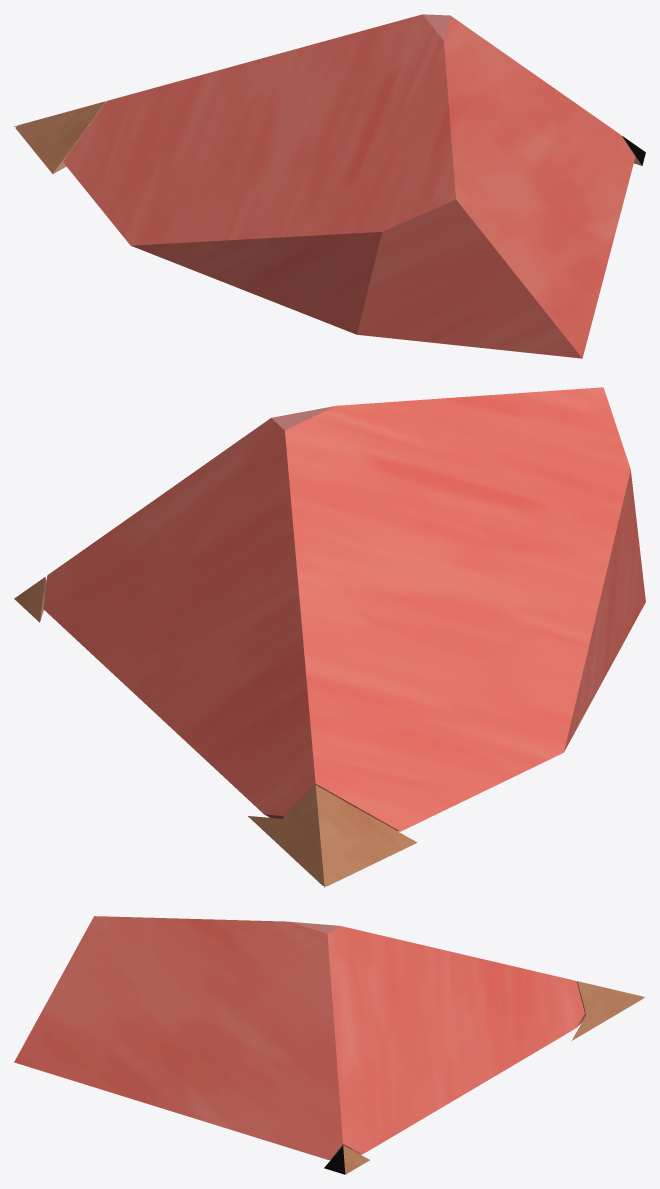
File: vat_s02.fbx
The picture shows the model from 3 angles, top to bottom: view 1: azimuth 30°, elevation 25°; view 2: azimuth 150°, elevation 25°; view 3: azimuth 270°, elevation 25°; orthographic projection. The views are drawn at different scales.
Parts seen in each view (by area): view 1: vat_s02; view 2: vat_s02; view 3: vat_s02.
Boxes of the visible parts, bbox=[...] form: vat_s02: bbox=[14, 14, 645, 358]; vat_s02: bbox=[14, 387, 645, 887]; vat_s02: bbox=[14, 916, 645, 1174].
Size of the model in its own units: 3.26 by 1.24 by 4.47.
